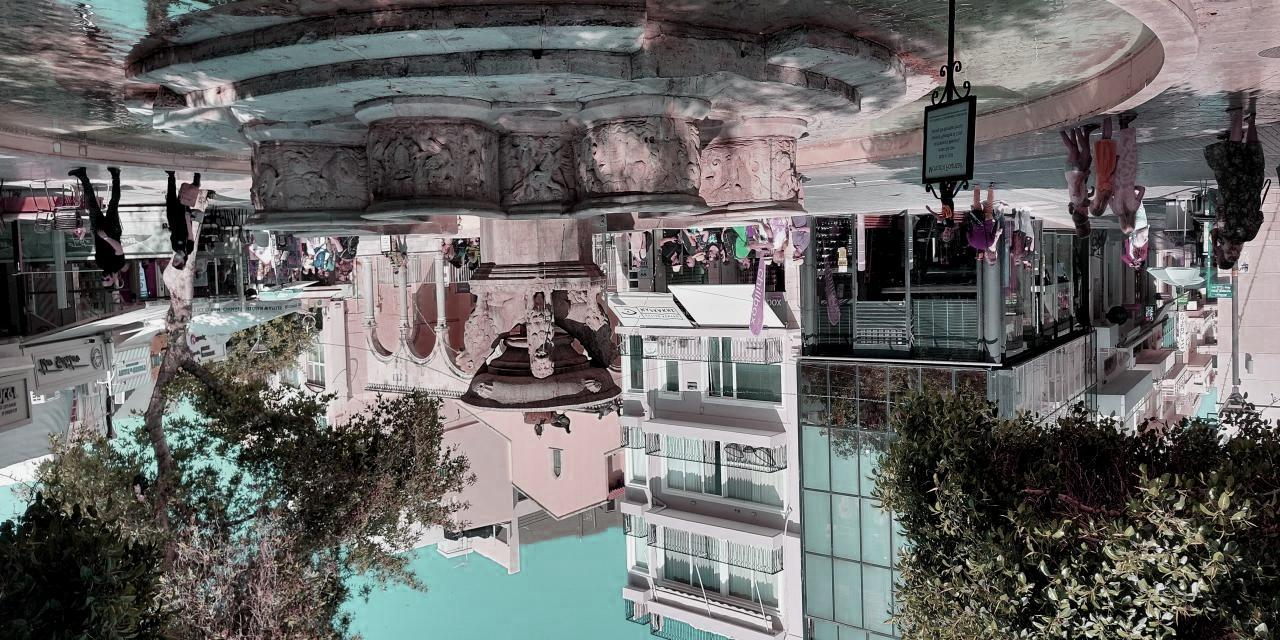Liontaria: (251, 106, 812, 436)
